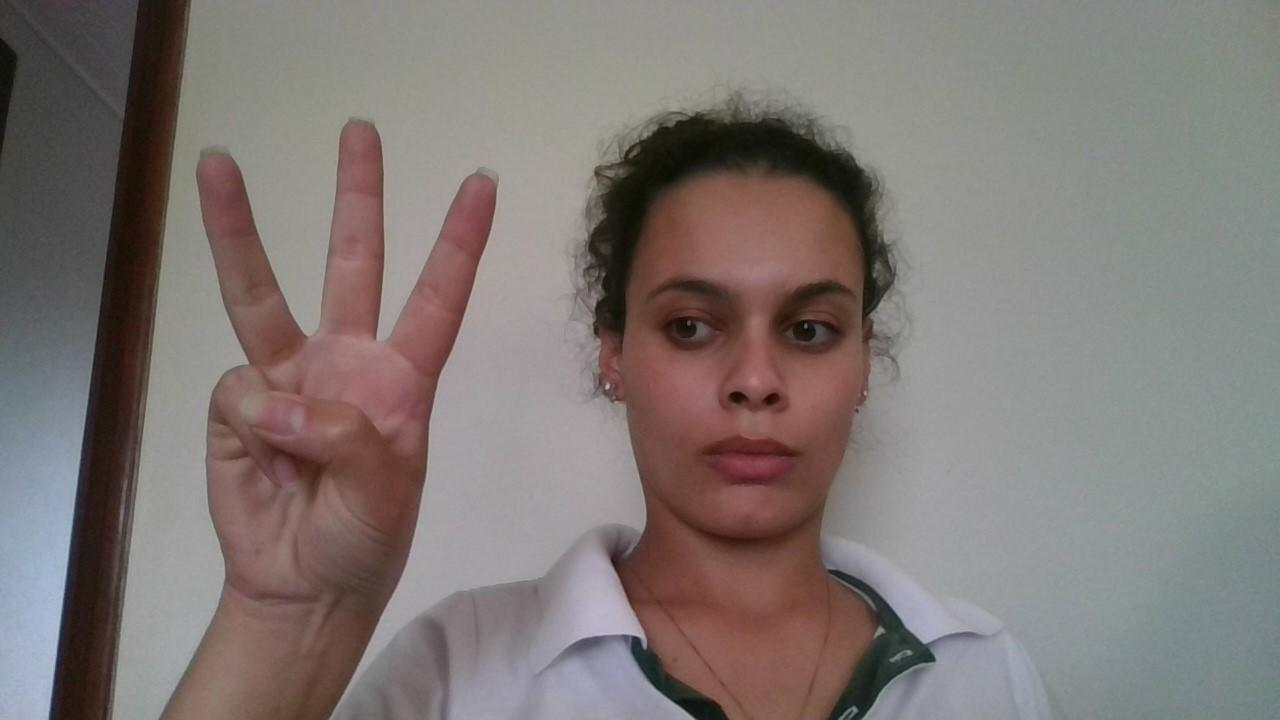W: (178, 112, 502, 602)
